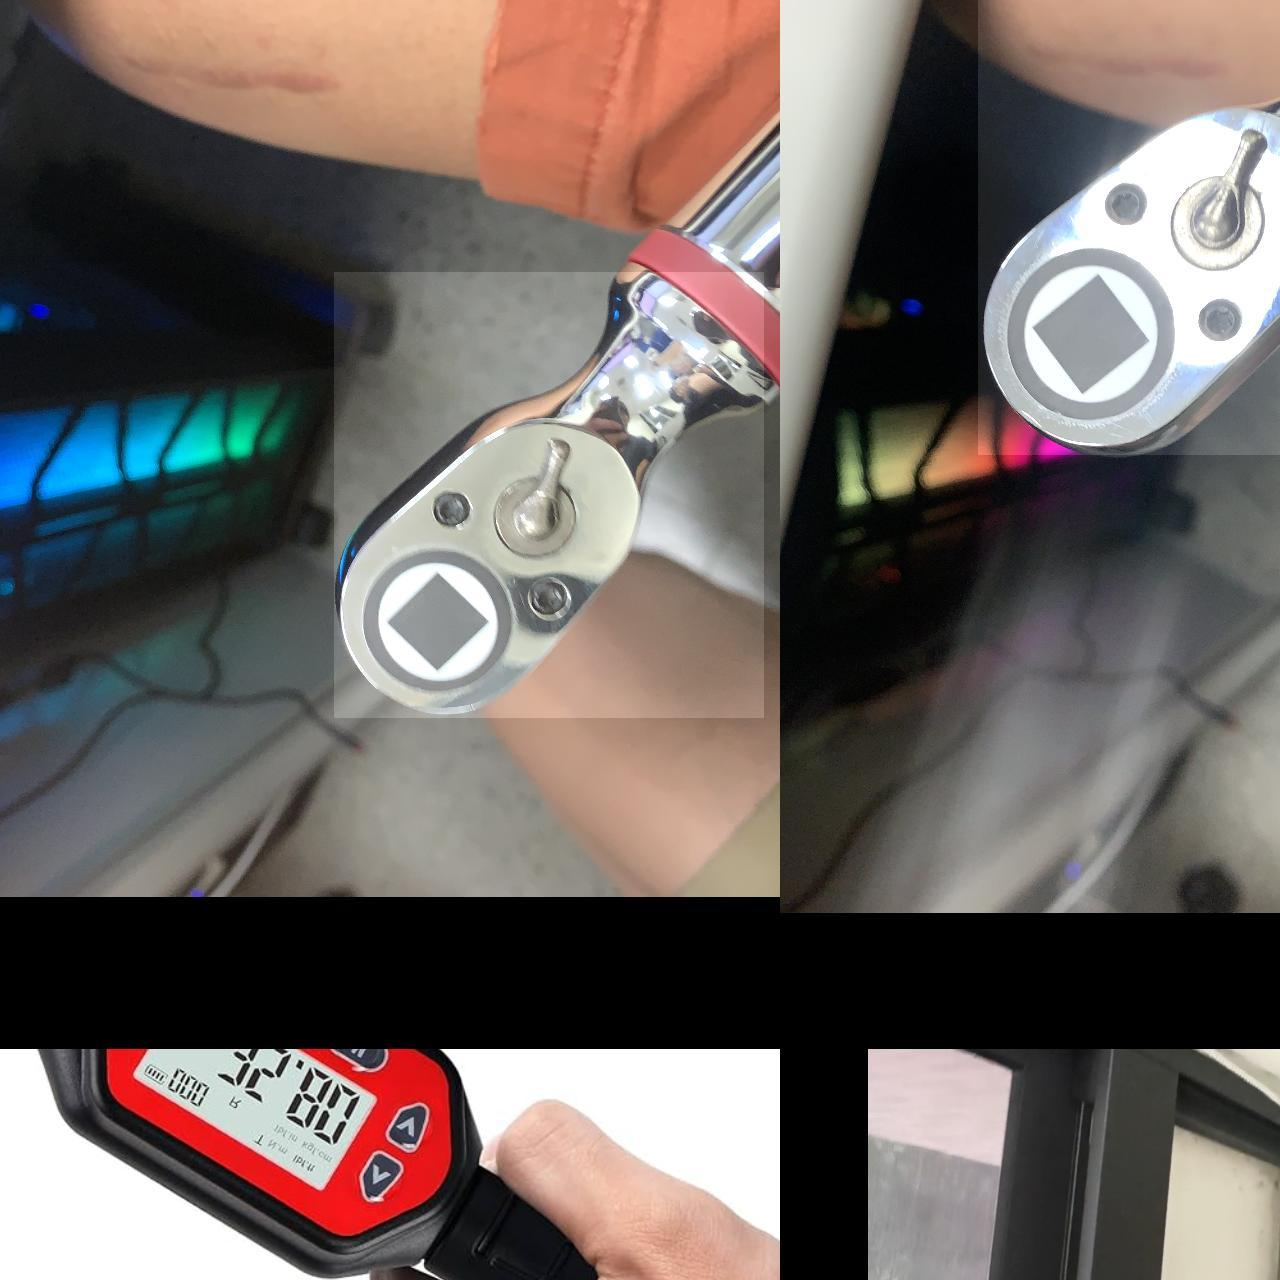Tool: (334, 271, 764, 717), (978, 0, 1280, 454)
